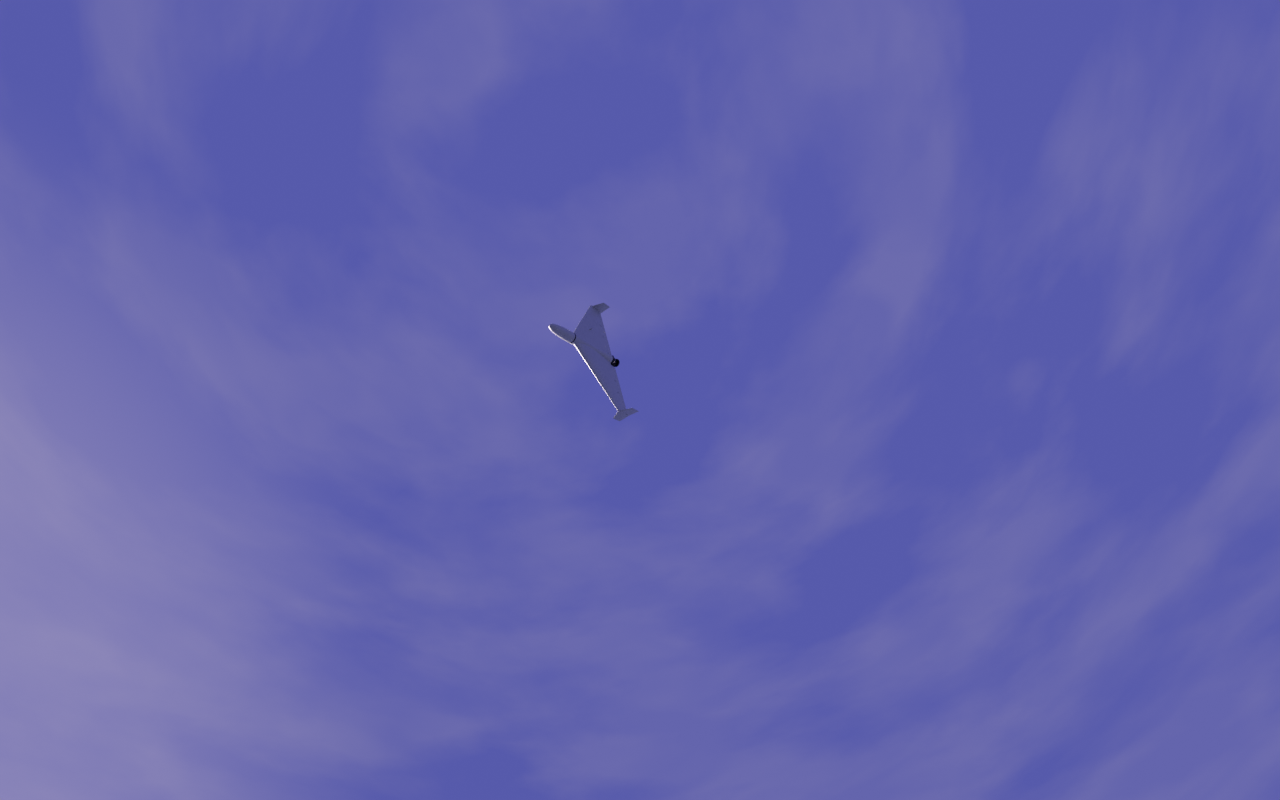shahed: (549, 302, 641, 423)
